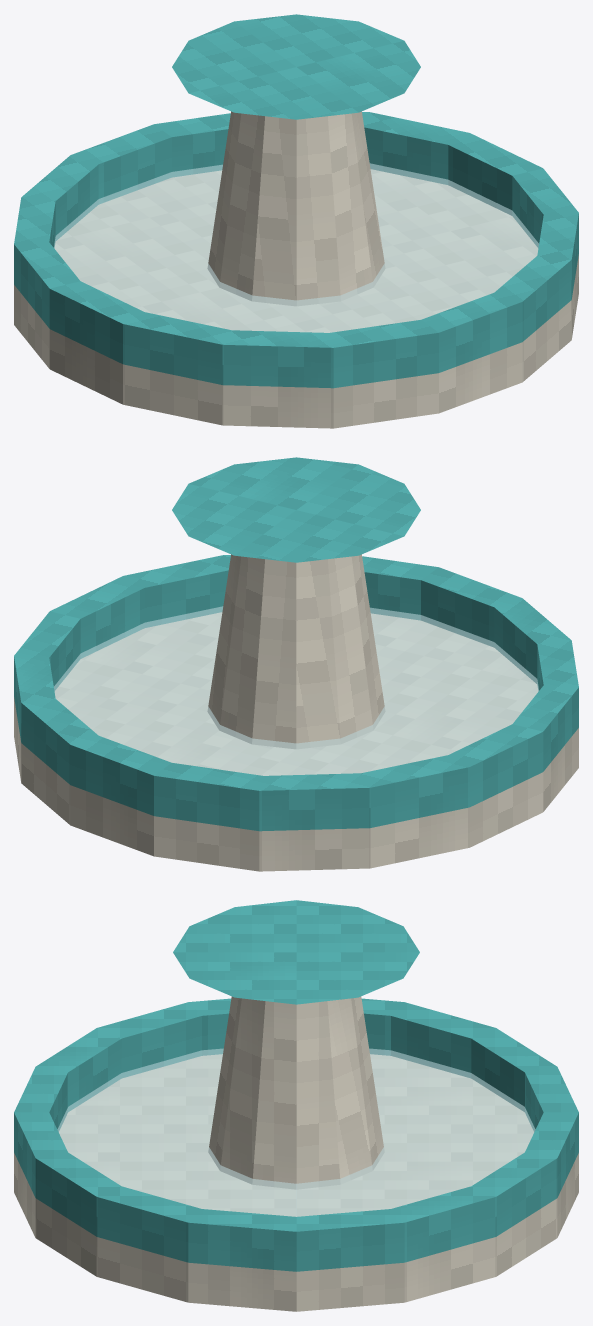
Rendered from three-d-retro-arcade-and-mall-1989-retro-arcade-and-mall-1989-atrium-fountain-93425d54.glb.
3 views of the same model, one above another, from view 1: azimuth 30°, elevation 25°; view 2: azimuth 150°, elevation 25°; view 3: azimuth 270°, elevation 25° (orthographic).
Visible parts, largest first — view 1: atrium-fountain; view 2: atrium-fountain; view 3: atrium-fountain.
Part boxes in pixels (x1=…): atrium-fountain: x1=14, y1=14, x2=578, y2=428; atrium-fountain: x1=14, y1=457, x2=578, y2=871; atrium-fountain: x1=14, y1=900, x2=578, y2=1311.
Bounding box in the file's own units: 3.2 × 1.5 × 3.2.
Materials: 3 (2 with a texture image).
